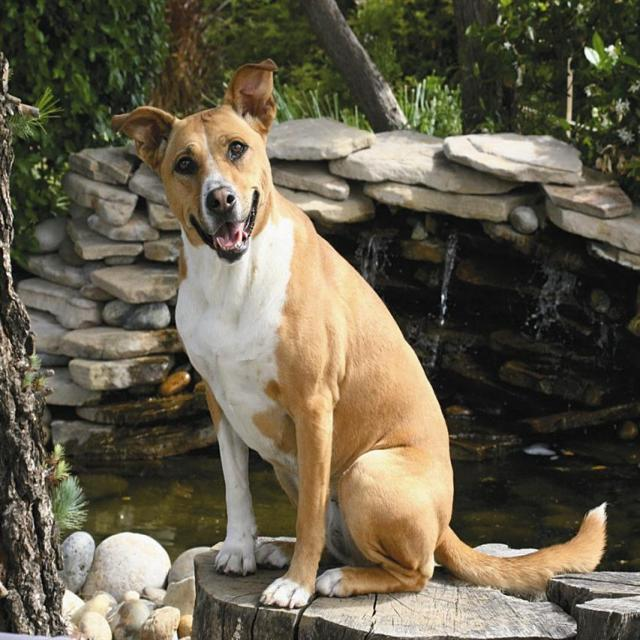sitting: (99, 55, 615, 611)
